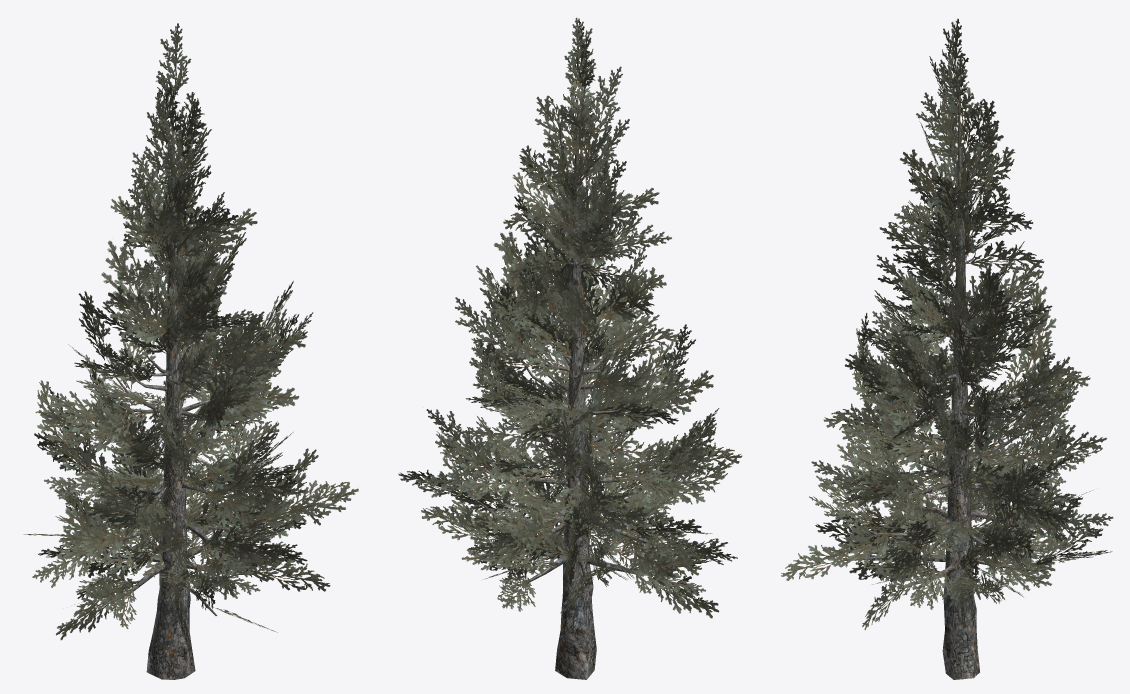
The model's file is SM_Spruce_.fbx.
The picture shows the model from 3 angles, left to right: view 1: azimuth 30°, elevation 25°; view 2: azimuth 150°, elevation 25°; view 3: azimuth 270°, elevation 25°; orthographic projection.
Visible parts, largest first — view 1: Spruce_LOD1; view 2: Spruce_LOD1; view 3: Spruce_LOD1.
Part boxes in pixels (<box>): Spruce_LOD1: <box>23,23,358,679</box>; Spruce_LOD1: <box>398,17,742,679</box>; Spruce_LOD1: <box>781,18,1113,679</box>.
Size of the model in its own units: 825 by 851 by 1742.
